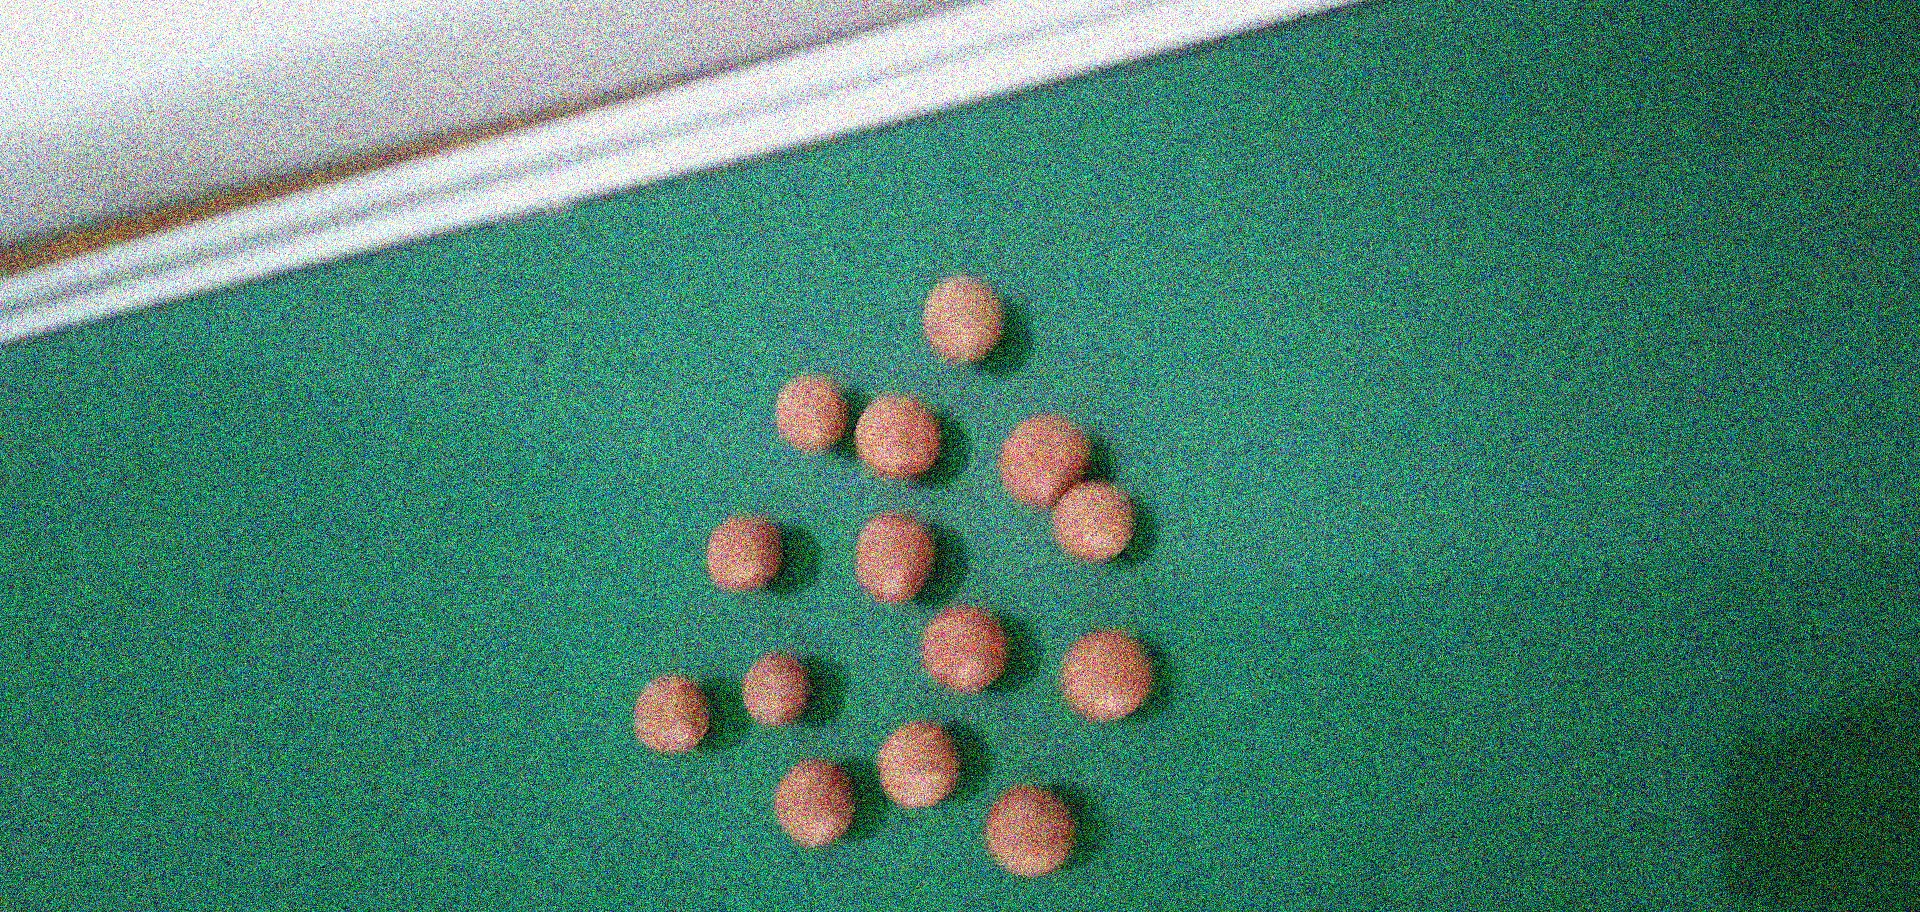mac: (1057, 628, 1151, 720), (1002, 410, 1090, 507), (769, 754, 852, 848), (921, 269, 999, 365), (982, 788, 1065, 875), (876, 715, 955, 805), (921, 608, 1007, 688), (856, 514, 933, 600), (631, 668, 707, 754), (856, 387, 931, 474), (771, 373, 847, 455), (703, 514, 781, 591), (740, 649, 816, 728), (1053, 479, 1128, 557)
